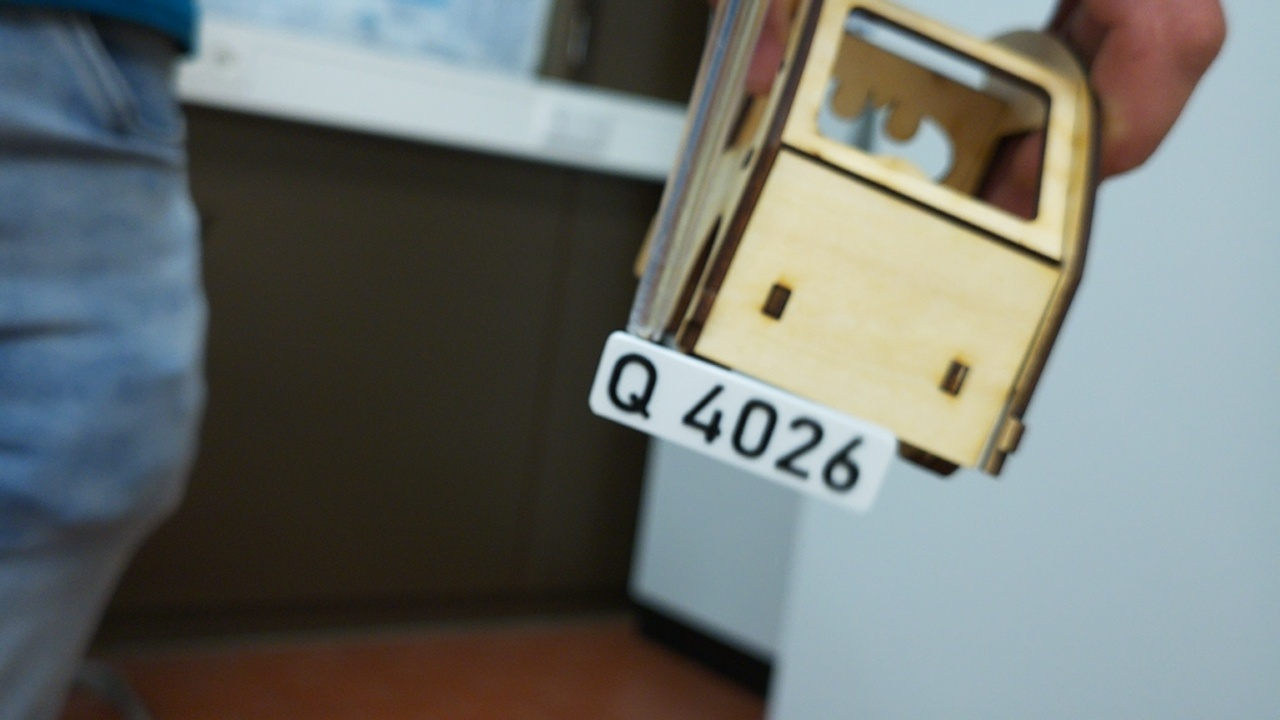license_plate: (586, 325, 901, 515)
